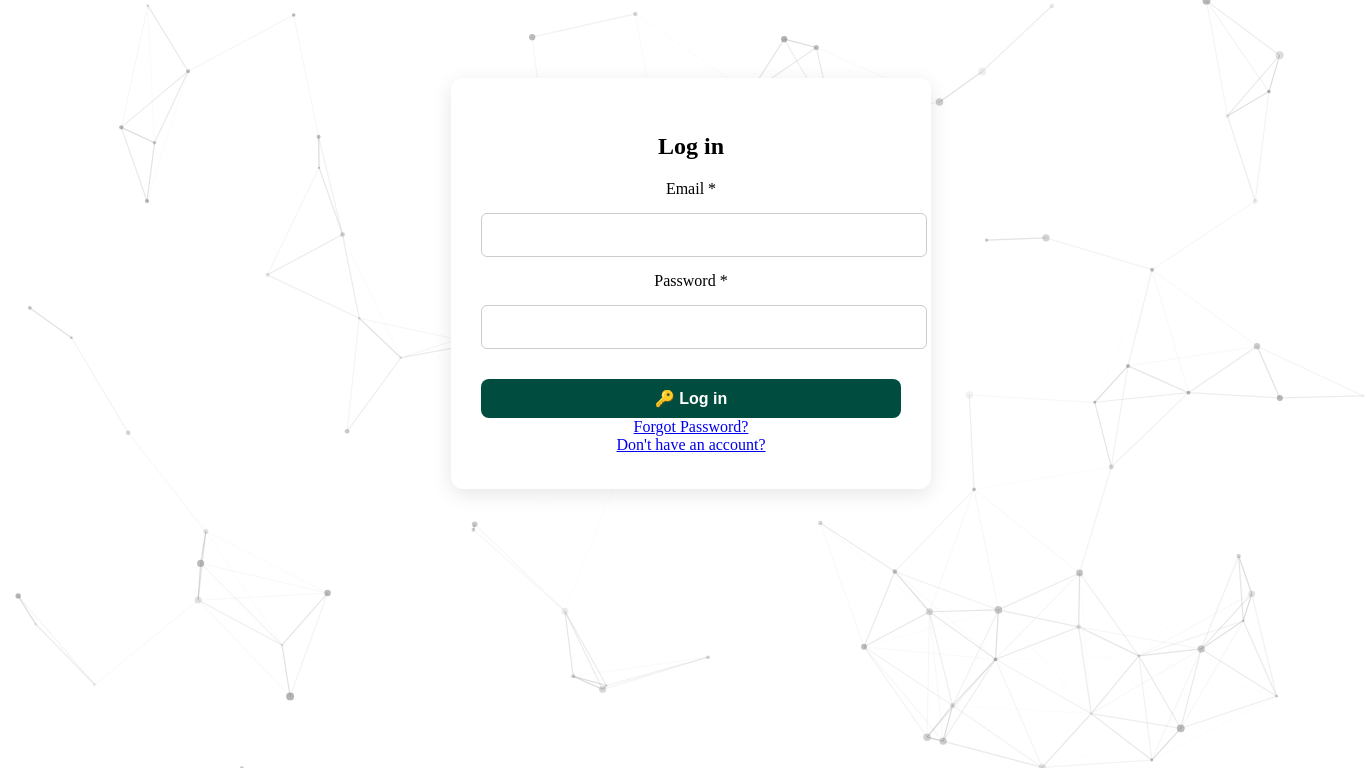
Test: Login Component › displays error message on authentication failure
Note: Fill and submit form
Type "test@example.com" into the field named "email". click: (704, 235)
box: [481,213,927,257]
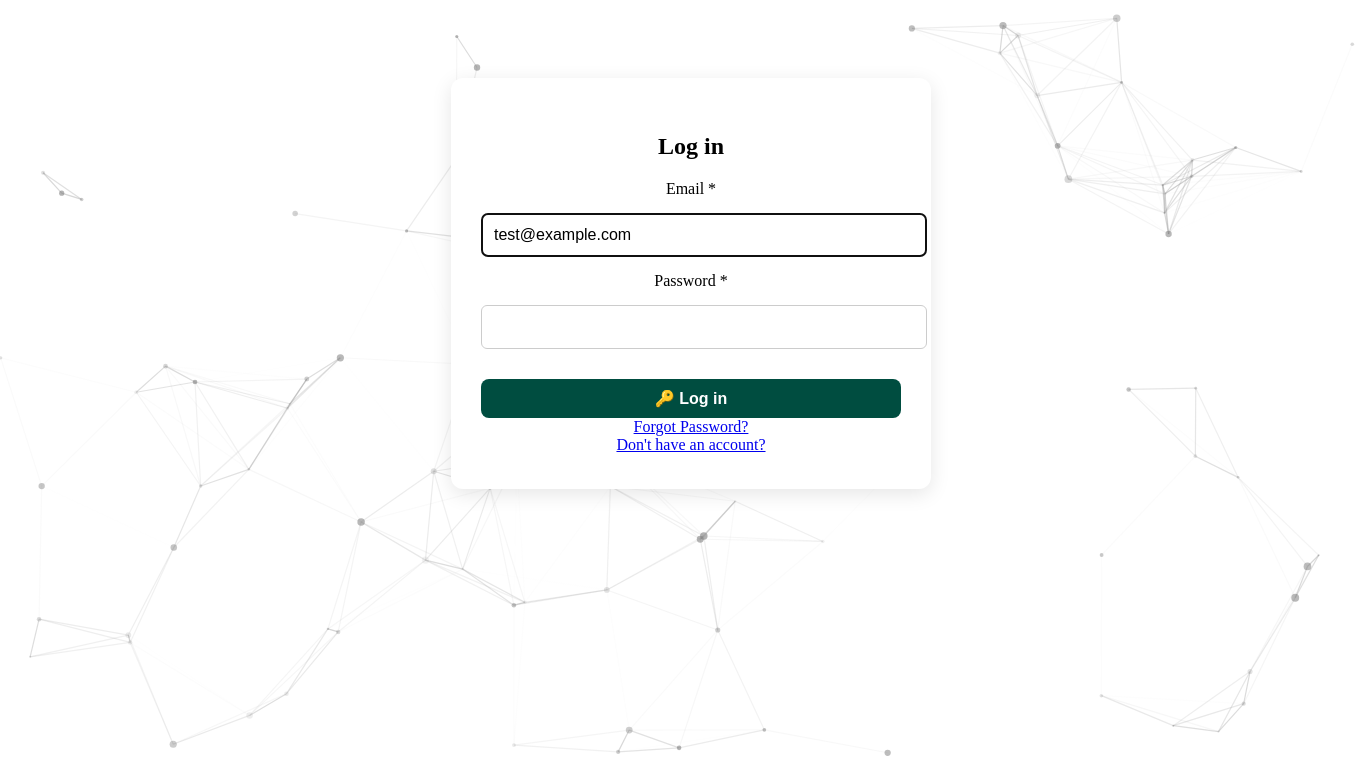
Type "wrongpassword" into the password field named "password". click: (704, 327)
box: [481,305,927,349]
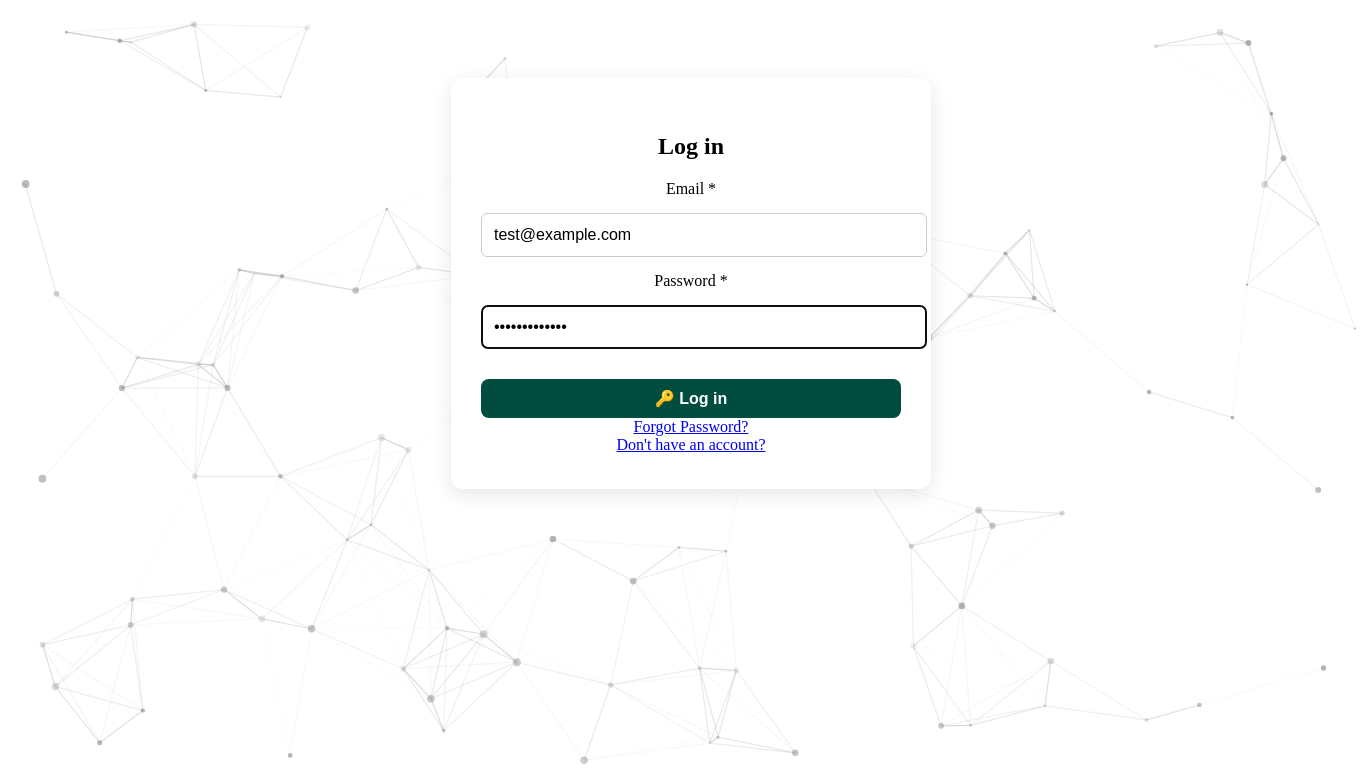
Click the submit button. click: (691, 399)
box: [481,379,901,418]
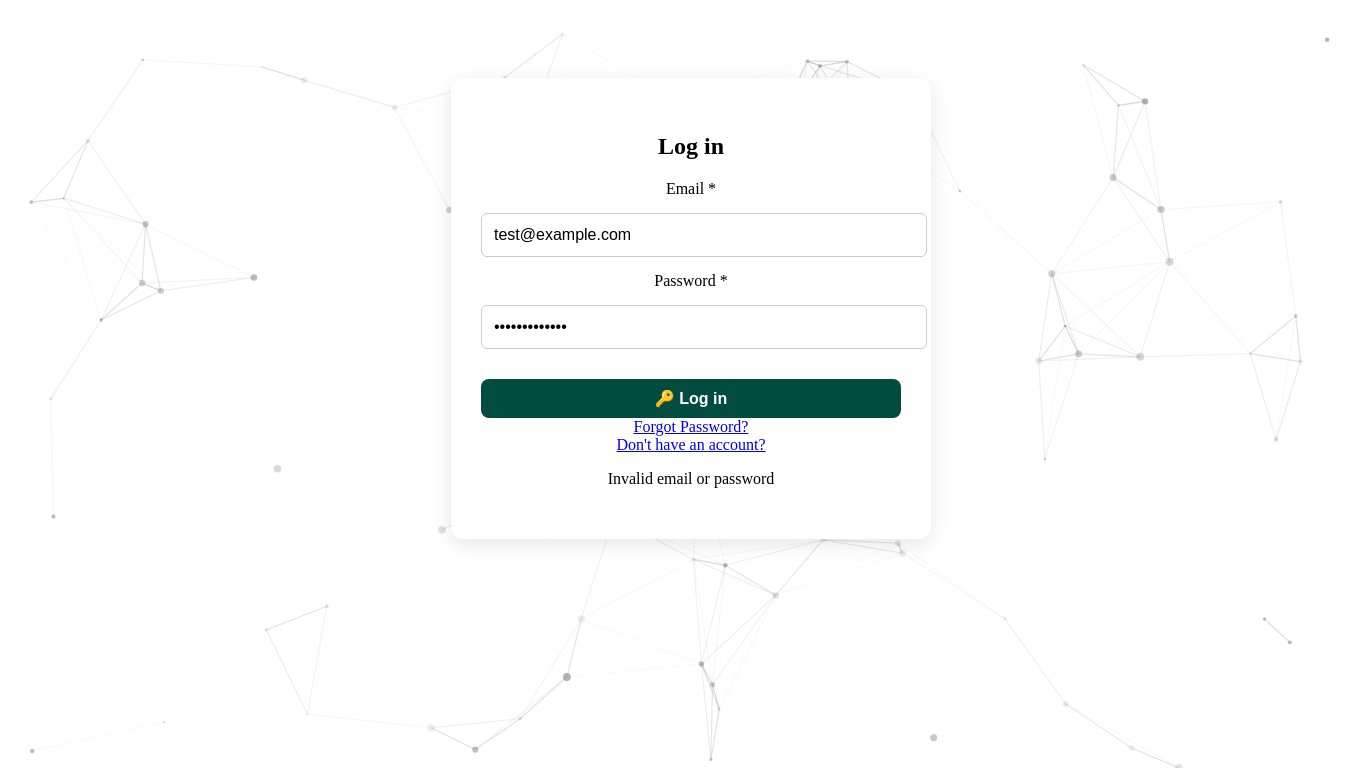
Check: the text "Invalid email or password" is shown, box [608,470,774,487]
Check: the text with class "error" reads "Invalid email or password", box [608,470,775,487]
